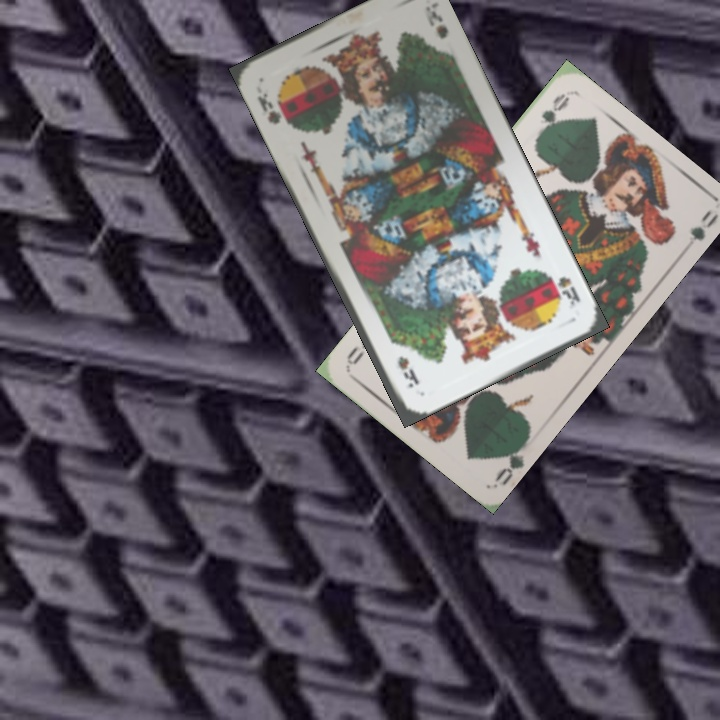GO: (491, 434, 532, 487), (531, 89, 572, 142)
SK: (253, 88, 284, 128), (553, 272, 583, 308)
